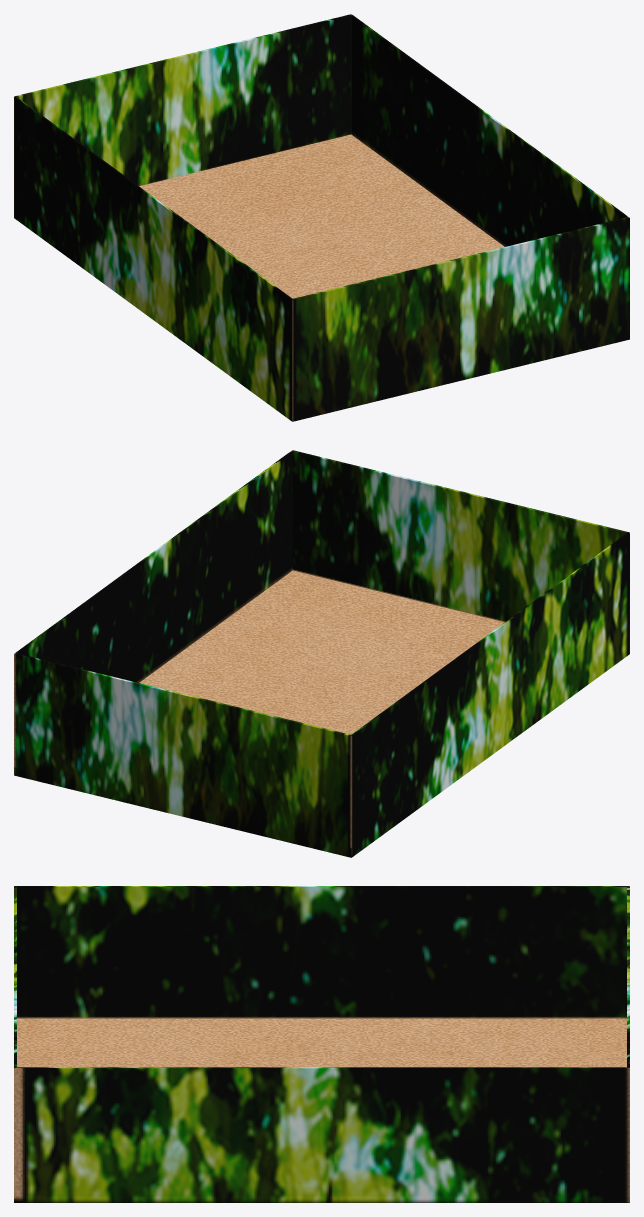
Rendered from Boardgame_Box_Bottom_2.fbx.
3 renders of one model, top to bottom at view 1: azimuth 30°, elevation 25°; view 2: azimuth 150°, elevation 25°; view 3: azimuth 270°, elevation 25°, orthographic. The views are drawn at different scales.
Parts seen in each view (by area): view 1: BoardgameBox_Bottom_2_LOD0; view 2: BoardgameBox_Bottom_2_LOD0; view 3: BoardgameBox_Bottom_2_LOD0.
Boxes of the visible parts, box(x1,y1,x2,y2) form: BoardgameBox_Bottom_2_LOD0: box(14, 14, 629, 421); BoardgameBox_Bottom_2_LOD0: box(14, 450, 629, 857); BoardgameBox_Bottom_2_LOD0: box(14, 886, 629, 1202).
Size of what is drawn, in the model's own units: 0.2079 by 0.0716 by 0.297.
